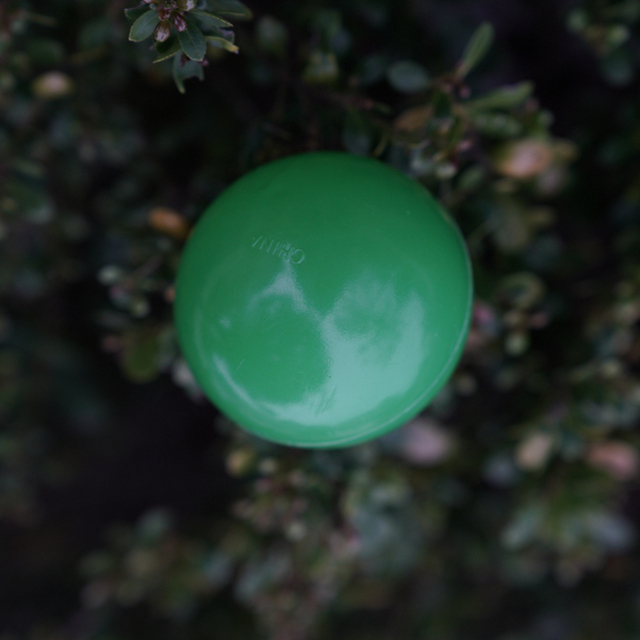Ball: (177, 153, 470, 445)
